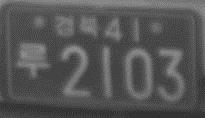0: (125, 47, 154, 100)
1: (96, 46, 119, 97), (129, 16, 148, 42)
2: (59, 44, 91, 98)
3: (157, 47, 186, 102)
4: (104, 16, 125, 41)
경북_O: (53, 14, 99, 39)
루: (17, 42, 50, 79)
